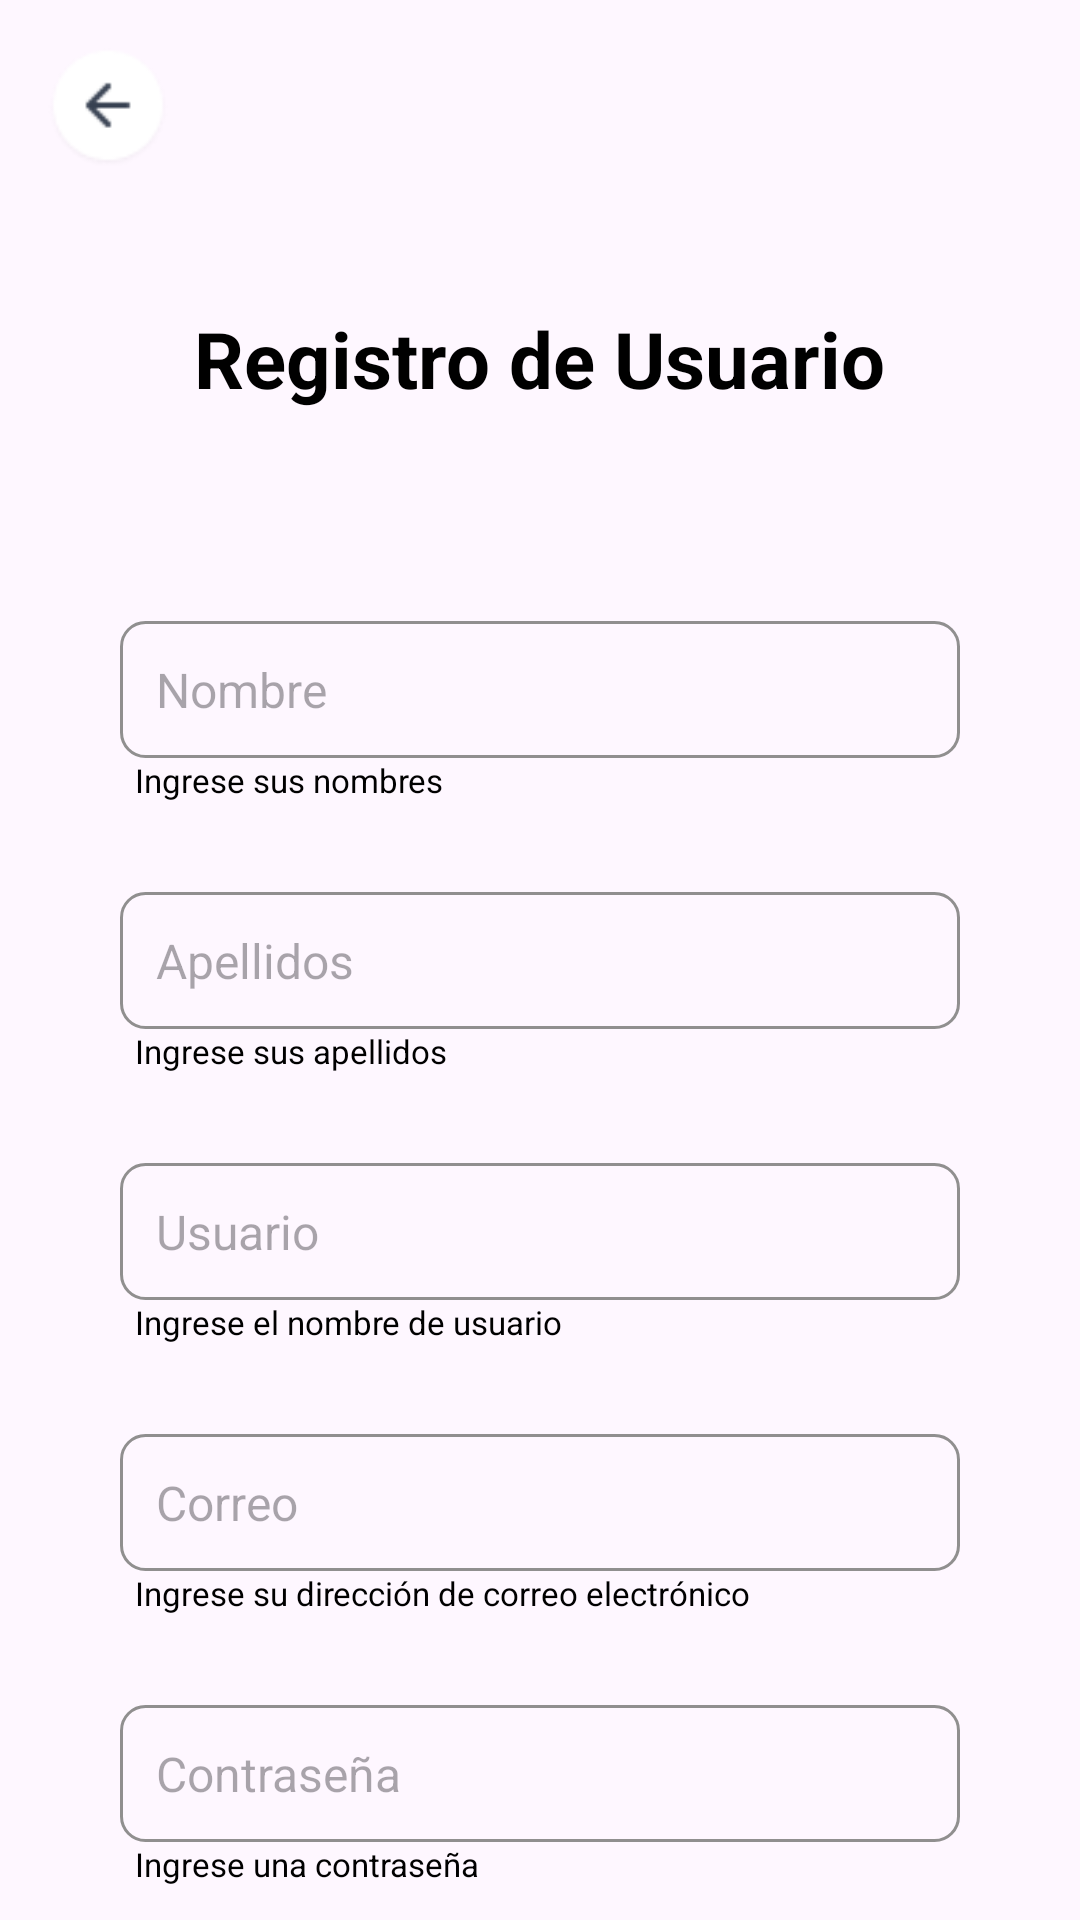

Icons on this 1080px x 1920px Android screen, each with its box as [left=x1, top=y1, right=x2, bottom=y2]:
Botón de regreso: [left=55, top=52, right=161, bottom=159]
